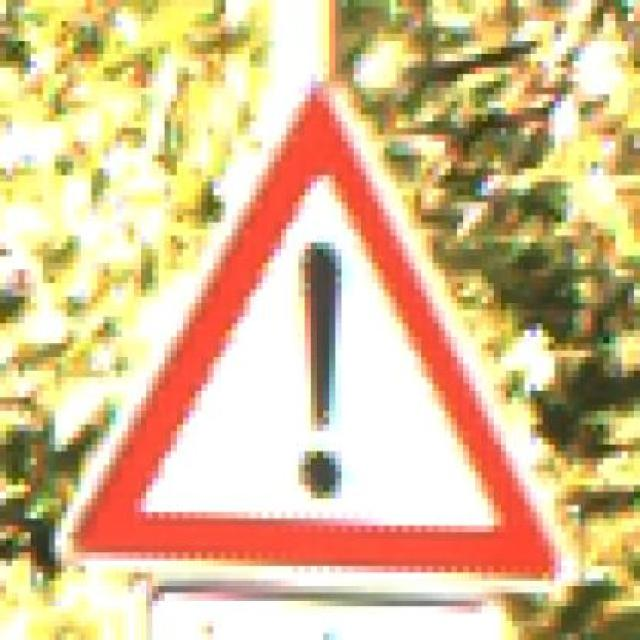Attention Please-: (67, 74, 591, 600)
